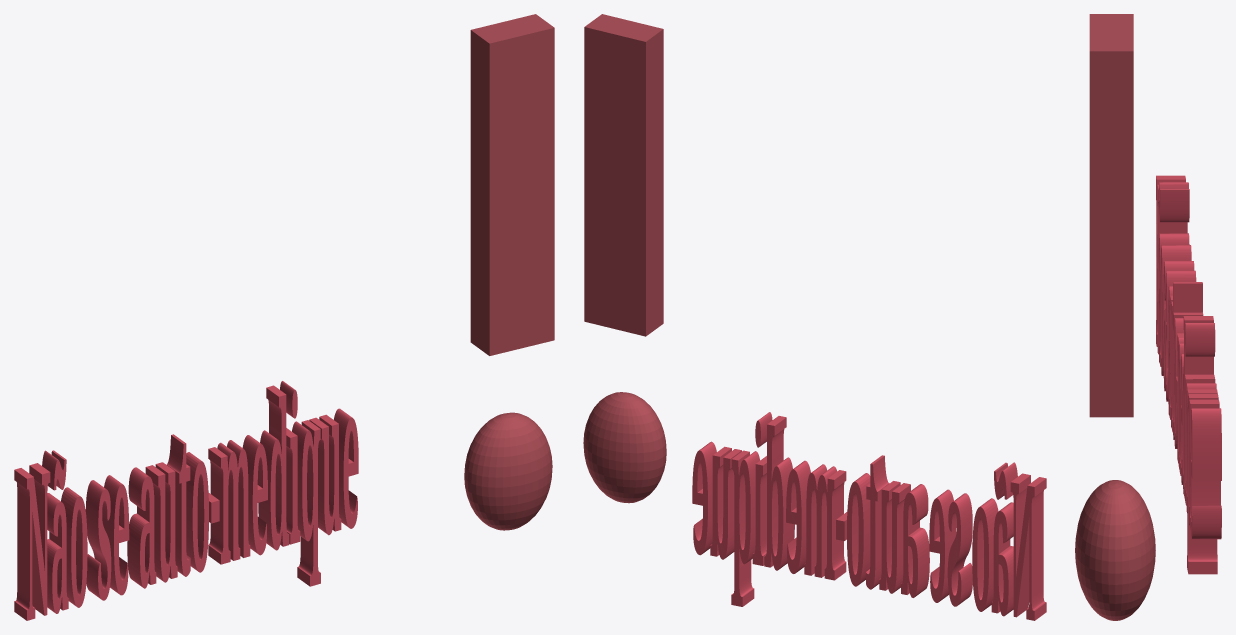
3 renders of one model, left to right at view 1: azimuth 30°, elevation 25°; view 2: azimuth 150°, elevation 25°; view 3: azimuth 270°, elevation 25°, orthographic. The views are drawn at different scales.
Visible parts, largest first — view 1: Mesh_Mesh_head_geo.001_lambert2SG.001; view 2: Mesh_Mesh_head_geo.001_lambert2SG.001; view 3: Mesh_Mesh_head_geo.001_lambert2SG.001.
Part boxes in pixels (x1,y1,x2,y2): Mesh_Mesh_head_geo.001_lambert2SG.001: (14, 14, 554, 620); Mesh_Mesh_head_geo.001_lambert2SG.001: (583, 14, 1046, 620); Mesh_Mesh_head_geo.001_lambert2SG.001: (1075, 14, 1221, 620).
Size of the model in its own units: 93 by 95 by 20.
